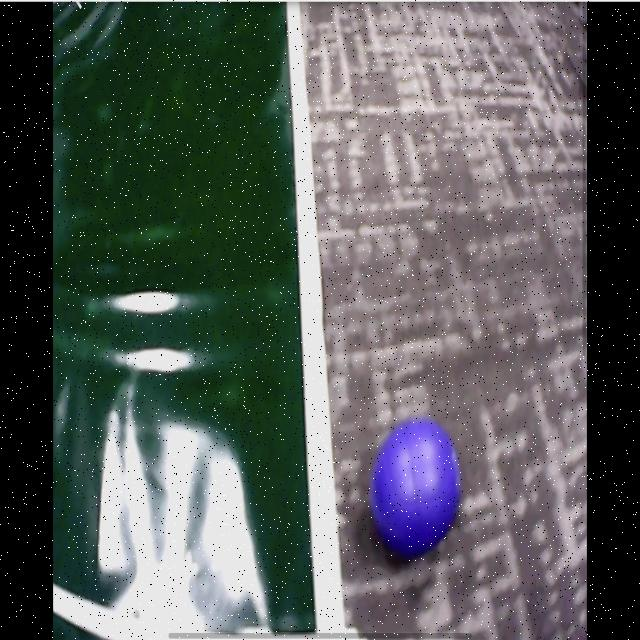ball: (372, 419, 461, 556)
